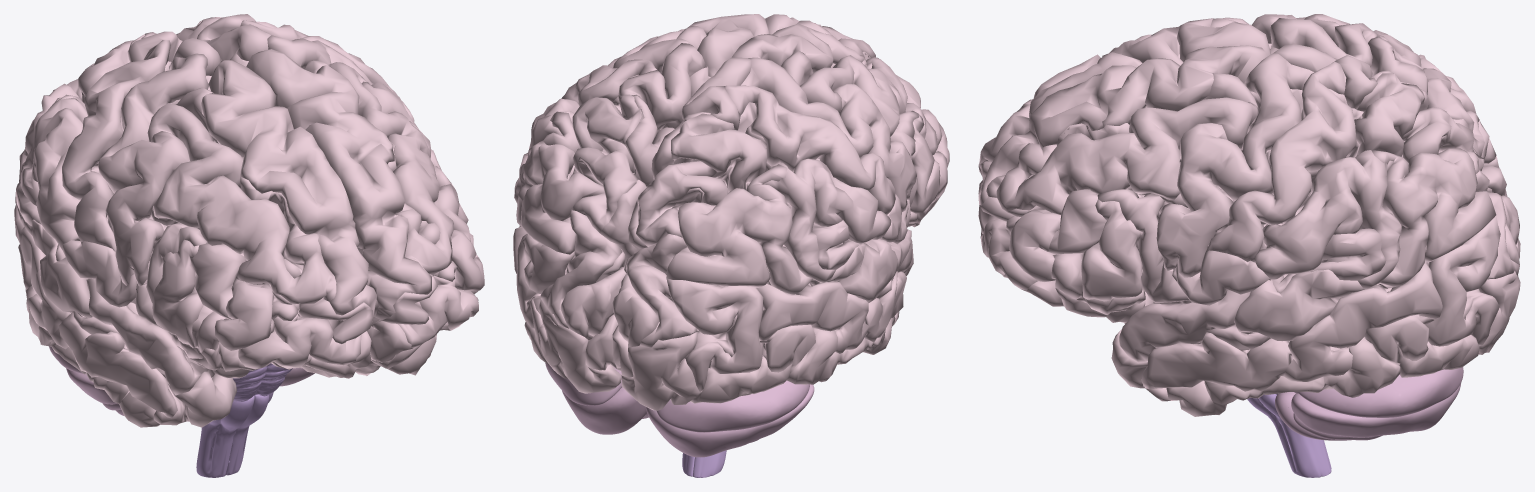
File: vanatome-1.4.0-brain.glb
3 renders of one model, left to right at view 1: azimuth 30°, elevation 25°; view 2: azimuth 150°, elevation 25°; view 3: azimuth 270°, elevation 25°, orthographic. The views are drawn at different scales.
Visible parts, largest first — view 1: cerebrum-middle-frontal-gyrus-right__Middle frontal gyrus.r, cerebrum-superior-frontal-gyrus-right__Superior frontal gyru, cerebrum-superior-frontal-gyrus-left__Superior frontal gyrus, cerebrum-precentral-gyrus-right__Precentral gyrus.r, cerebrum-middle-frontal-gyrus-left__Middle frontal gyrus.l, cerebrum-postcentral-gyrus-right__Postcentral gyrus.r, cerebrum-middle-temporal-gyrus-right__Middle temporal gyrus., cerebrum-superior-temporal-gyrus-lateral-part-right__Superio, cerebrum-supramarginal-gyrus-right__Supramarginal gyrus.r, cerebrum-orbital-gyri-frontomarginal-gyrus-and-sulcus-right_, cerebrum-triangular-part-of-inferior-frontal-gyrus-right__Tr, cerebrum-inferior-frontal-sulcus-right__Inferior frontal sul (+27 smaller); view 2: cerebrum-angular-gyrus-right__Angular gyrus.r, cerebrum-superior-parietal-lobule-right__Superior parietal l, cerebrum-postcentral-gyrus-right__Postcentral gyrus.r, cerebrum-supramarginal-gyrus-right__Supramarginal gyrus.r, cerebrum-angular-gyrus-left__Angular gyrus.l, cerebrum-lateral-occipital-gyrus-middle-occipital-gyrus-righ, cerebrum-precentral-gyrus-right__Precentral gyrus.r, cerebrum-middle-temporal-gyrus-right__Middle temporal gyrus., cerebrum-superior-parietal-lobule-left__Superior parietal lo, cerebrum-middle-frontal-gyrus-right__Middle frontal gyrus.r, cerebrum-inferior-temporal-gyrus-right__Inferior temporal gy, cerebellum-superior-semilunar-lobule-right__Superior semilun (+32 smaller); view 3: cerebrum-middle-frontal-gyrus-left__Middle frontal gyrus.l, cerebrum-precentral-gyrus-left__Precentral gyrus.l, cerebrum-middle-temporal-gyrus-left__Middle temporal gyrus.l, cerebrum-superior-frontal-gyrus-left__Superior frontal gyrus, cerebrum-postcentral-gyrus-left__Postcentral gyrus.l, cerebrum-supramarginal-gyrus-left__Supramarginal gyrus.l, cerebrum-superior-temporal-gyrus-lateral-part-left__Superior, cerebrum-angular-gyrus-left__Angular gyrus.l, cerebrum-inferior-temporal-gyrus-left__Inferior temporal gyr, cerebrum-superior-frontal-gyrus-right__Superior frontal gyru, cerebrum-superior-parietal-lobule-left__Superior parietal lo, cerebrum-lateral-occipital-gyrus-middle-occipital-gyrus-left (+26 smaller).
Part boxes in pixels (bbox=[...]): cerebrum-middle-frontal-gyrus-right__Middle frontal gyrus.r: bbox=[147, 103, 336, 350]; cerebrum-superior-frontal-gyrus-right__Superior frontal gyru: bbox=[201, 60, 376, 320]; cerebrum-superior-frontal-gyrus-left__Superior frontal gyrus: bbox=[230, 49, 431, 327]; cerebrum-precentral-gyrus-right__Precentral gyrus.r: bbox=[98, 53, 208, 285]; cerebrum-middle-frontal-gyrus-left__Middle frontal gyrus.l: bbox=[328, 62, 484, 291]; cerebrum-postcentral-gyrus-right__Postcentral gyrus.r: bbox=[62, 40, 170, 251]; cerebrum-middle-temporal-gyrus-right__Middle temporal gyrus.: bbox=[14, 205, 177, 418]; cerebrum-superior-temporal-gyrus-lateral-part-right__Superio: bbox=[25, 219, 199, 395]; cerebrum-supramarginal-gyrus-right__Supramarginal gyrus.r: bbox=[15, 97, 87, 249]; cerebrum-orbital-gyri-frontomarginal-gyrus-and-sulcus-right_: bbox=[238, 308, 361, 369]; cerebrum-triangular-part-of-inferior-frontal-gyrus-right__Tr: bbox=[152, 239, 203, 347]; cerebrum-inferior-frontal-sulcus-right__Inferior frontal sul: bbox=[151, 206, 246, 318]; cerebrum-angular-gyrus-right__Angular gyrus.r: bbox=[666, 164, 812, 294]; cerebrum-superior-parietal-lobule-right__Superior parietal l: bbox=[636, 113, 766, 246]; cerebrum-postcentral-gyrus-right__Postcentral gyrus.r: bbox=[724, 85, 895, 214]; cerebrum-supramarginal-gyrus-right__Supramarginal gyrus.r: bbox=[762, 158, 891, 282]; cerebrum-angular-gyrus-left__Angular gyrus.l: bbox=[516, 111, 604, 254]; cerebrum-lateral-occipital-gyrus-middle-occipital-gyrus-righ: bbox=[666, 278, 763, 391]; cerebrum-precentral-gyrus-right__Precentral gyrus.r: bbox=[741, 57, 916, 211]; cerebrum-middle-temporal-gyrus-right__Middle temporal gyrus.: bbox=[756, 271, 906, 353]; cerebrum-superior-parietal-lobule-left__Superior parietal lo: bbox=[571, 94, 644, 233]; cerebrum-middle-frontal-gyrus-right__Middle frontal gyrus.r: bbox=[800, 55, 949, 167]; cerebrum-inferior-temporal-gyrus-right__Inferior temporal gy: bbox=[760, 316, 895, 384]; cerebellum-superior-semilunar-lobule-right__Superior semilun: bbox=[656, 380, 809, 432]; cerebrum-middle-frontal-gyrus-left__Middle frontal gyrus.l: bbox=[986, 97, 1258, 281]; cerebrum-precentral-gyrus-left__Precentral gyrus.l: bbox=[1156, 52, 1314, 277]; cerebrum-middle-temporal-gyrus-left__Middle temporal gyrus.l: bbox=[1141, 262, 1442, 391]; cerebrum-superior-frontal-gyrus-left__Superior frontal gyrus: bbox=[978, 45, 1267, 205]; cerebrum-postcentral-gyrus-left__Postcentral gyrus.l: bbox=[1205, 61, 1356, 262]; cerebrum-supramarginal-gyrus-left__Supramarginal gyrus.l: bbox=[1254, 150, 1401, 289]; cerebrum-superior-temporal-gyrus-lateral-part-left__Superior: bbox=[1119, 269, 1364, 362]; cerebrum-angular-gyrus-left__Angular gyrus.l: bbox=[1371, 148, 1496, 288]; cerebrum-inferior-temporal-gyrus-left__Inferior temporal gyr: bbox=[1166, 314, 1434, 416]; cerebrum-superior-frontal-gyrus-right__Superior frontal gyru: bbox=[978, 18, 1278, 181]; cerebrum-superior-parietal-lobule-left__Superior parietal lo: bbox=[1354, 73, 1484, 173]; cerebrum-lateral-occipital-gyrus-middle-occipital-gyrus-left: bbox=[1425, 215, 1500, 346].
Bounding box in the file's own units: 0.1378 × 0.1608 × 0.1807.
